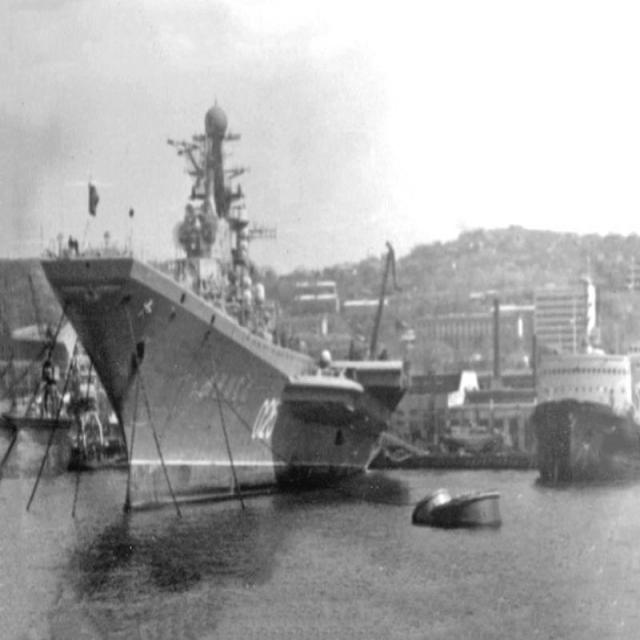Portanaves: (38, 81, 401, 525)
